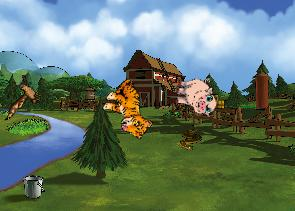eagle: (4, 73, 43, 122)
pig: (172, 75, 218, 117)
tiger: (95, 74, 165, 142)
